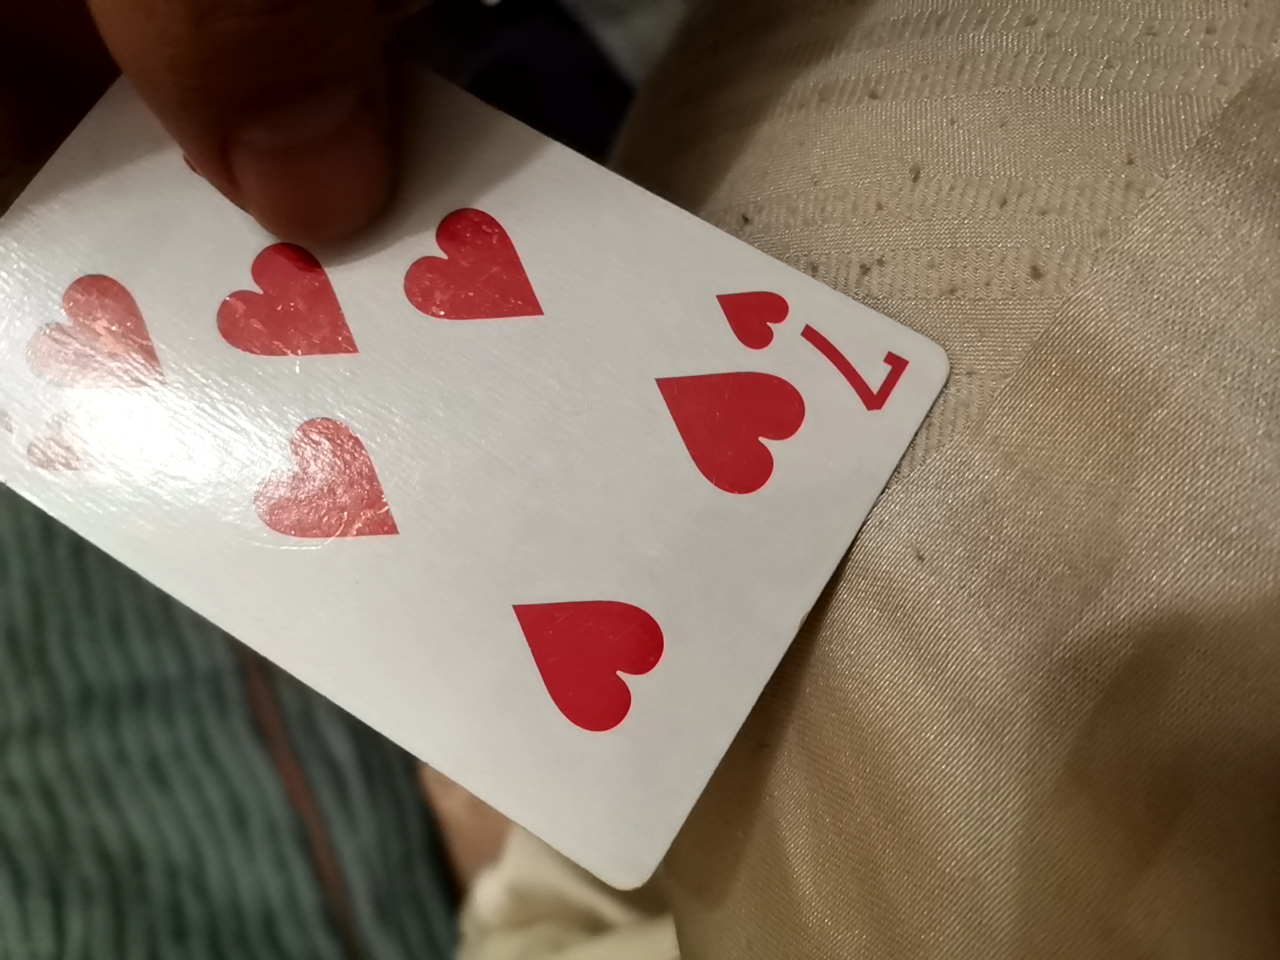hx 7: (16, 122, 972, 904)
